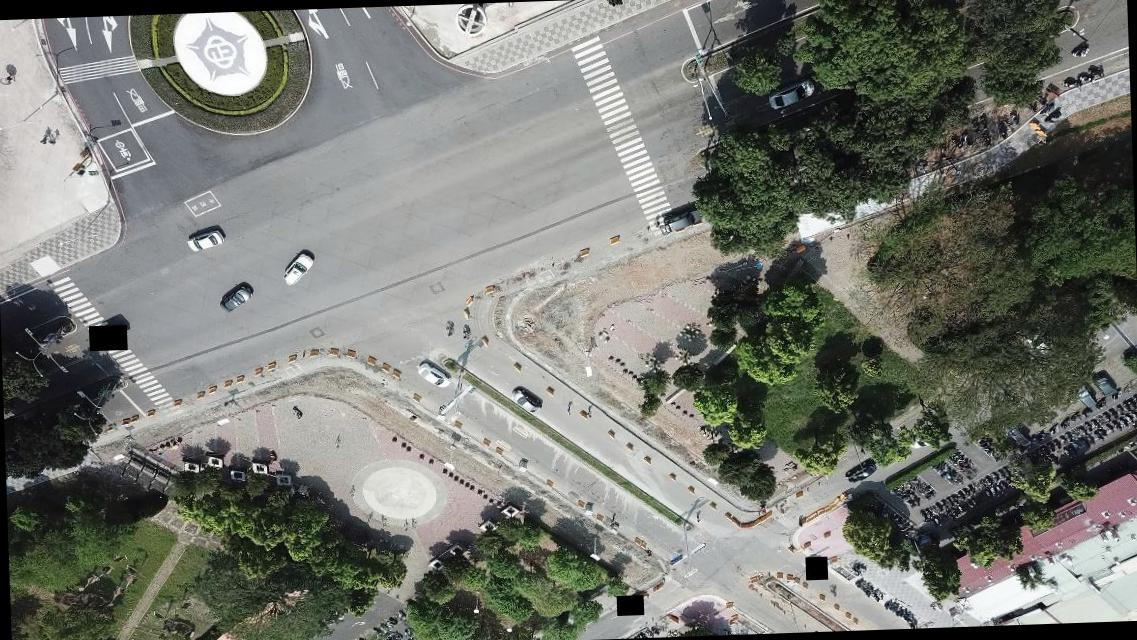vehicle: (766, 75, 814, 110), (658, 203, 700, 234), (281, 251, 314, 287), (416, 360, 452, 390), (220, 282, 253, 314), (186, 228, 224, 253), (510, 386, 542, 413), (845, 460, 875, 482), (1093, 371, 1117, 397), (1002, 421, 1028, 445), (1076, 383, 1096, 408), (908, 436, 930, 451)
